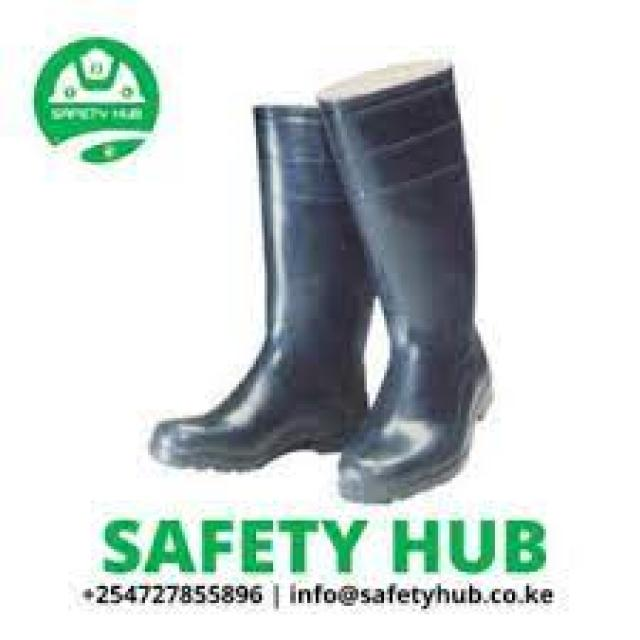shoes: (150, 62, 490, 502)
